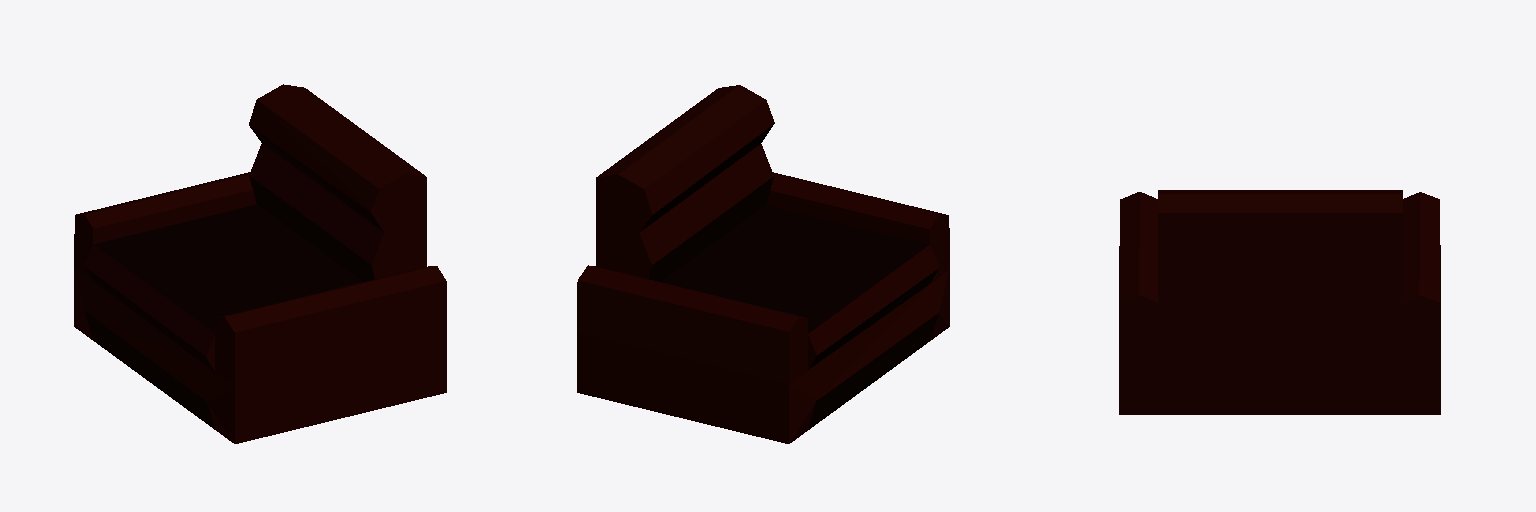
File: chair.obj
The picture shows the model from 3 angles: view 1: azimuth 30°, elevation 25°; view 2: azimuth 150°, elevation 25°; view 3: azimuth 270°, elevation 25°; orthographic projection.
Parts seen in each view (by area): view 1: Cube; view 2: Cube; view 3: Cube.
Boxes of the visible parts, <box> form: Cube: <box>74,84,446,443</box>; Cube: <box>577,85,949,443</box>; Cube: <box>1119,190,1440,414</box>.
Bounding box in the file's own units: 2.09 × 1.89 × 2.63.